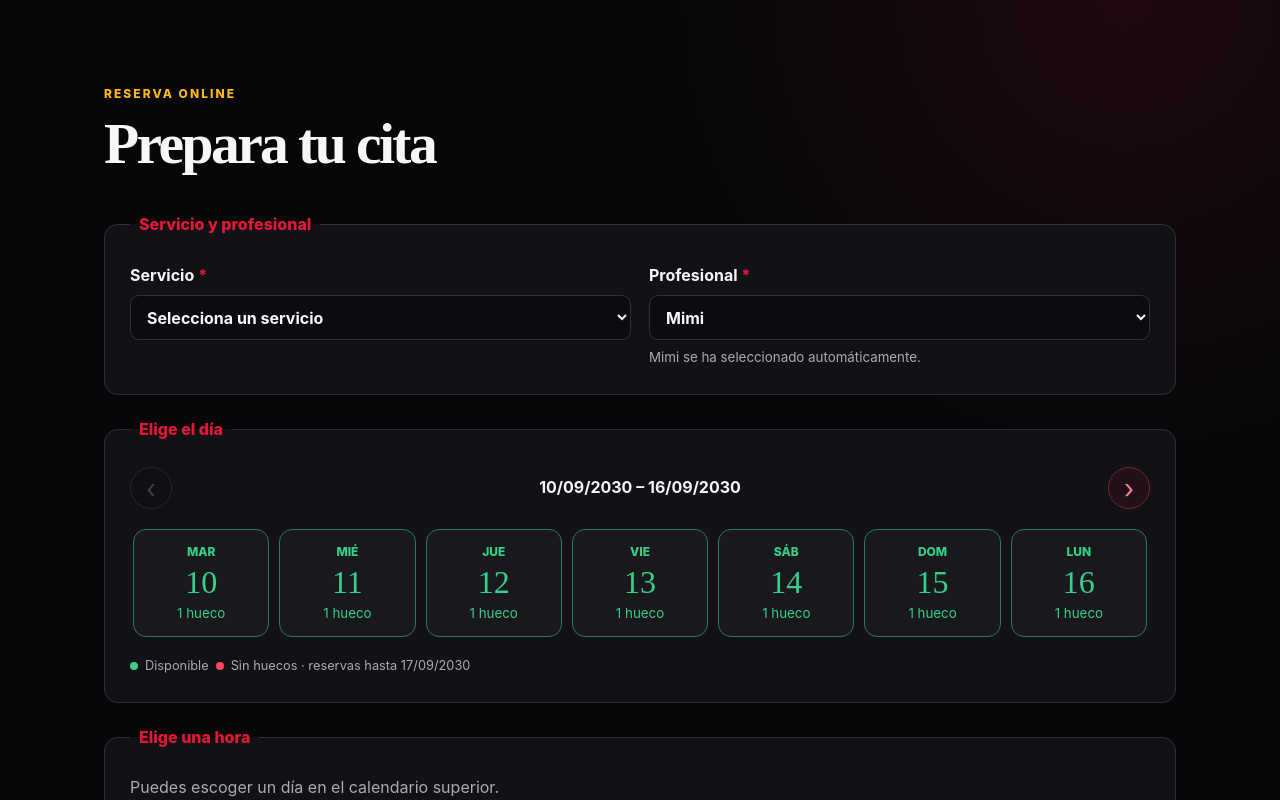
reserva pública › muestra una semana cada vez y permite avanzar con flechas
The width and height of the screenshot is (1280, 800).
Check: the text "10" is shown, box [185,564,217,601]
Click the button named "Semana siguiente" at (1129, 488), box [1108,467,1150,509]
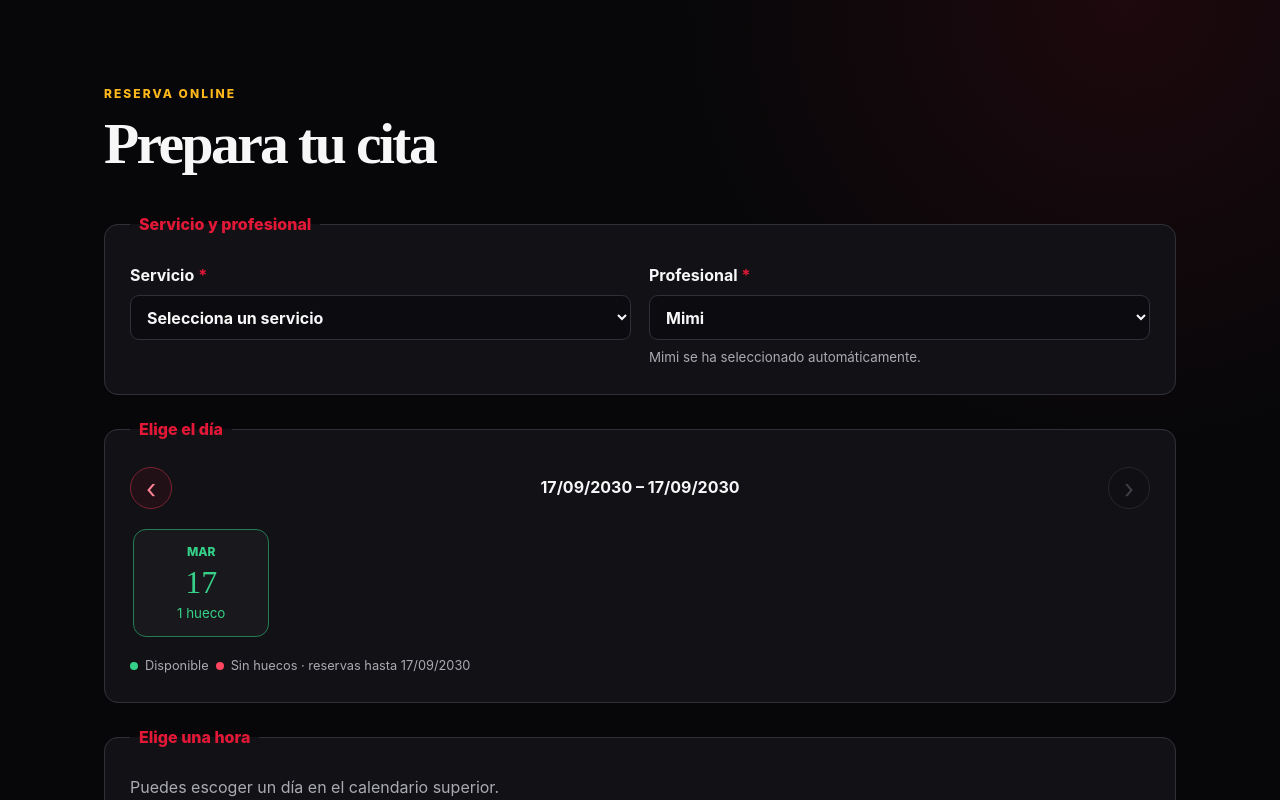
Check: the text "17" is shown, box [185,564,217,601]
Check: the text "10" is gone
